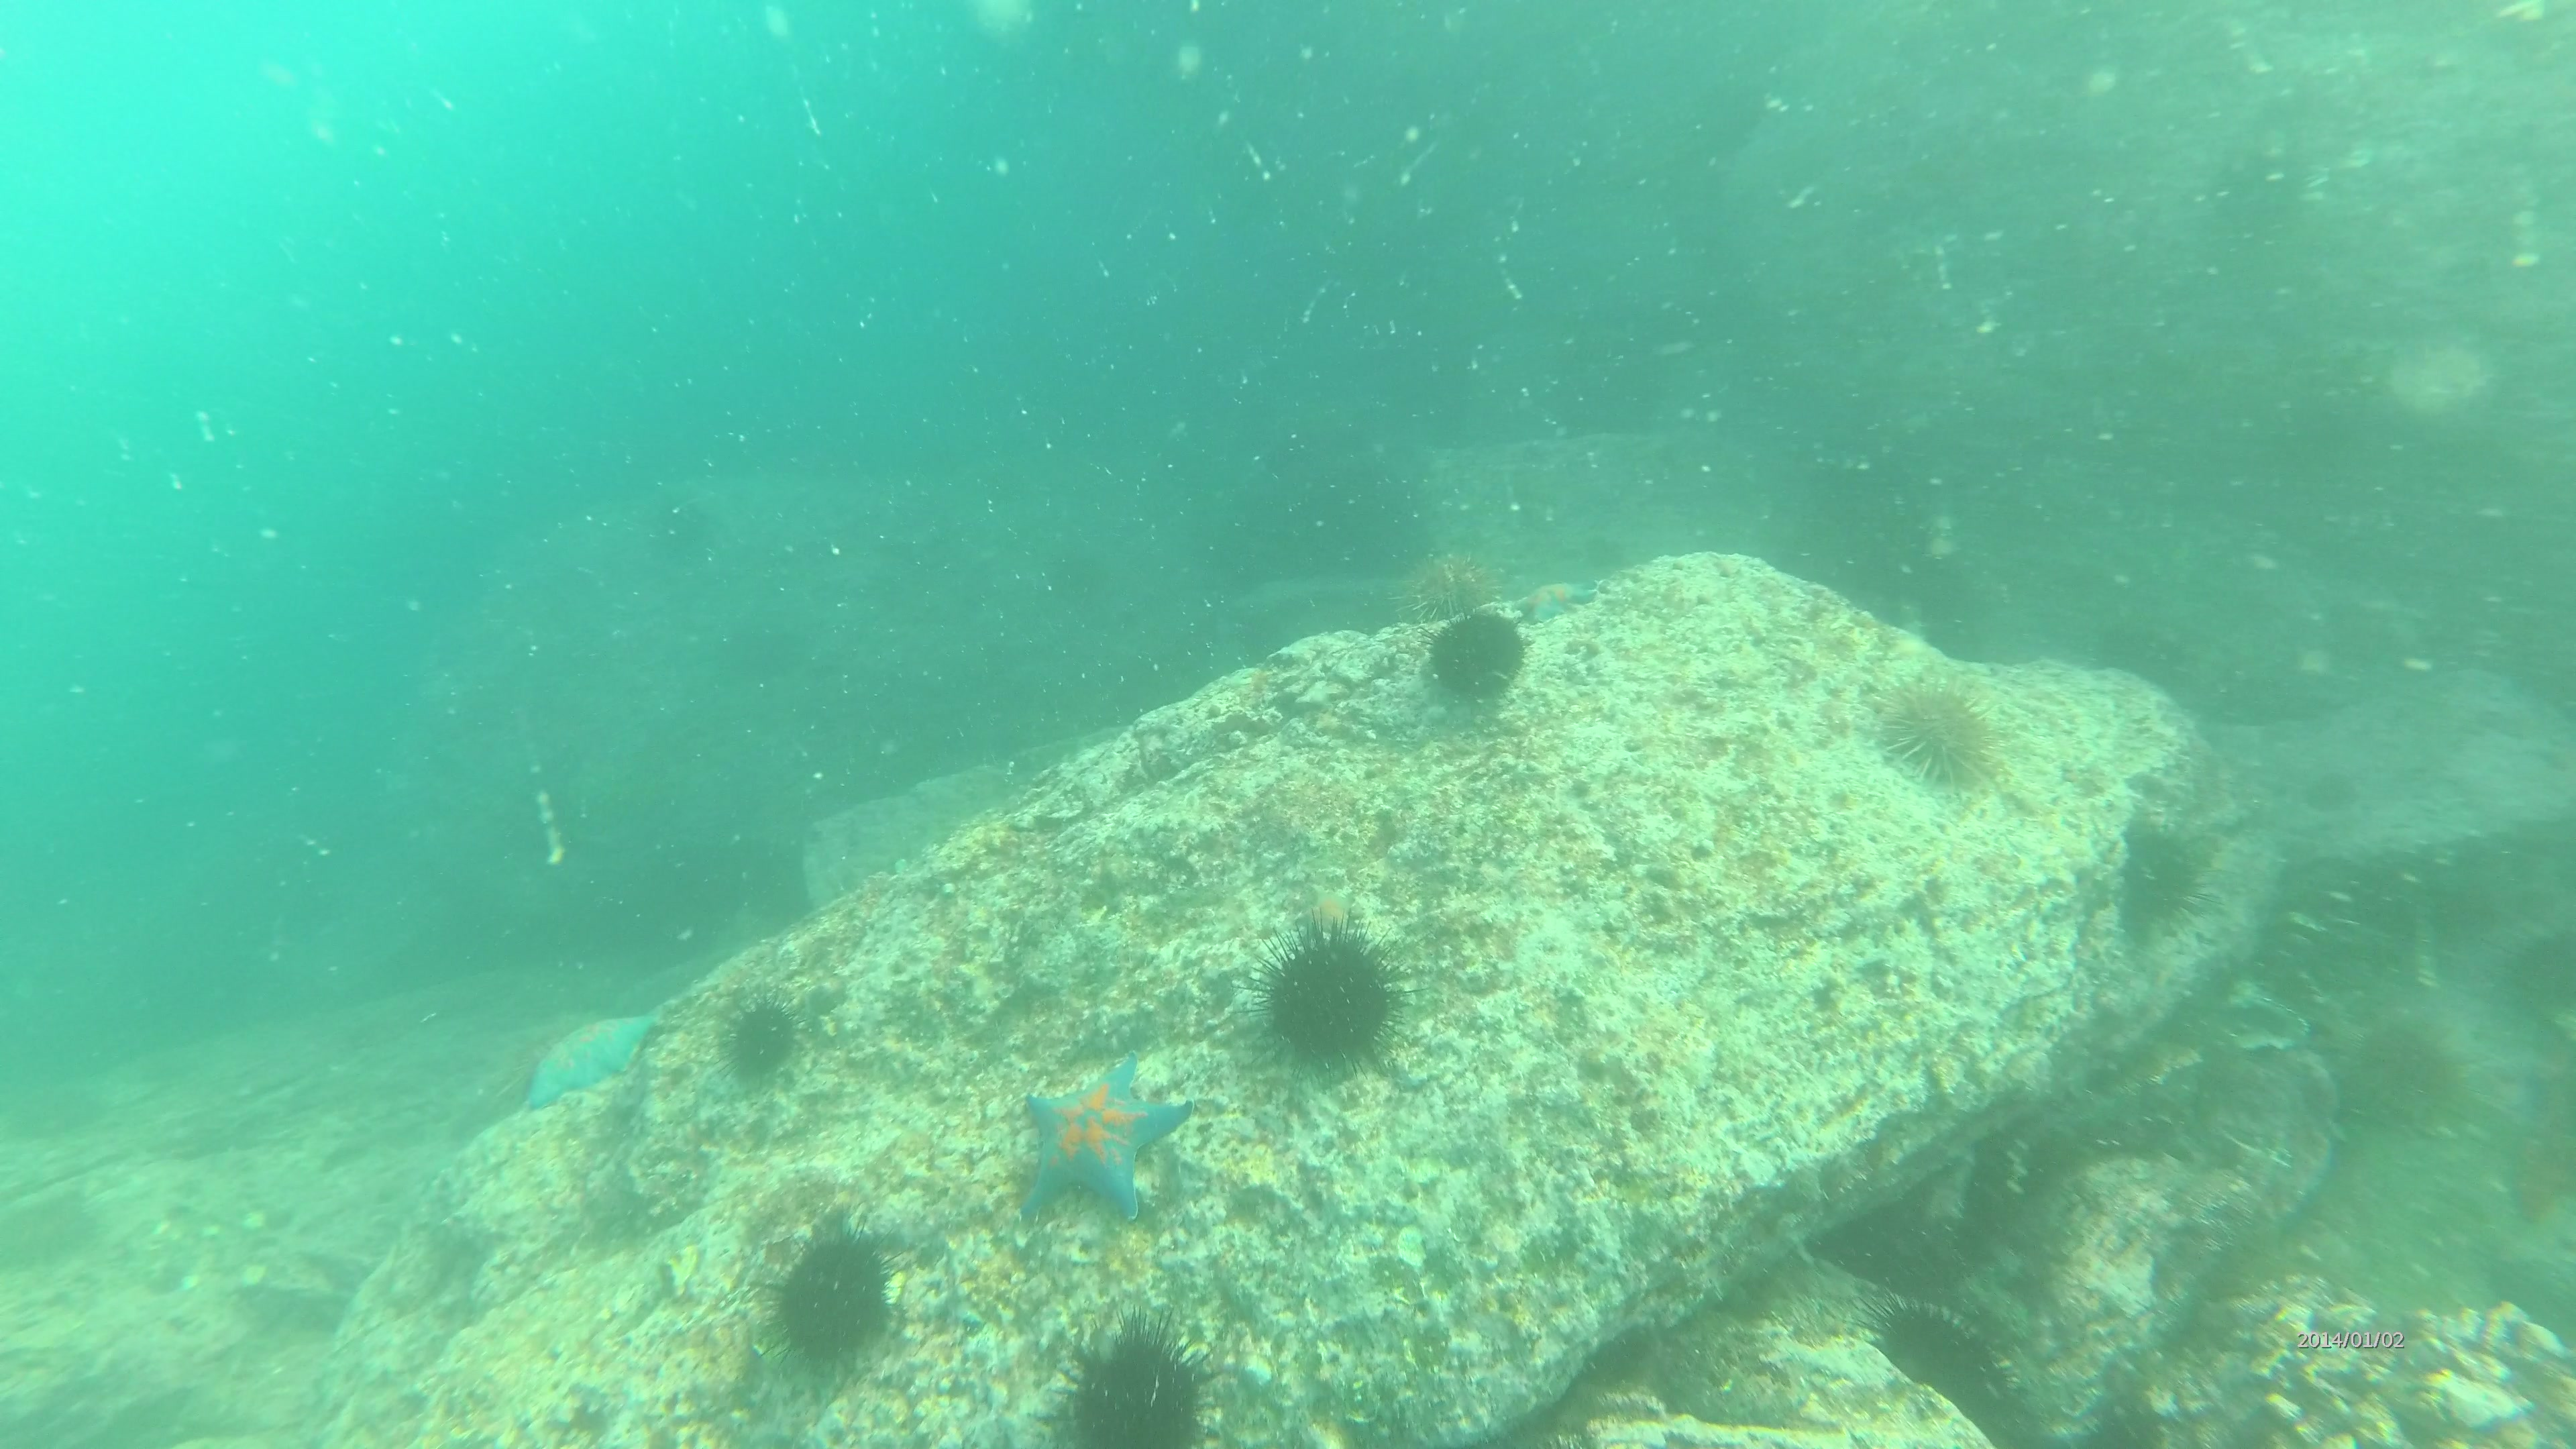echinus: (1233, 909, 1424, 1070), (1042, 1323, 1219, 1445), (761, 1205, 906, 1353), (2342, 1003, 2468, 1132), (1861, 676, 1997, 793), (1424, 600, 1529, 717), (2114, 809, 2212, 931), (718, 1005, 796, 1070)
starfish: (1012, 1047, 1187, 1214), (524, 1003, 662, 1109)
